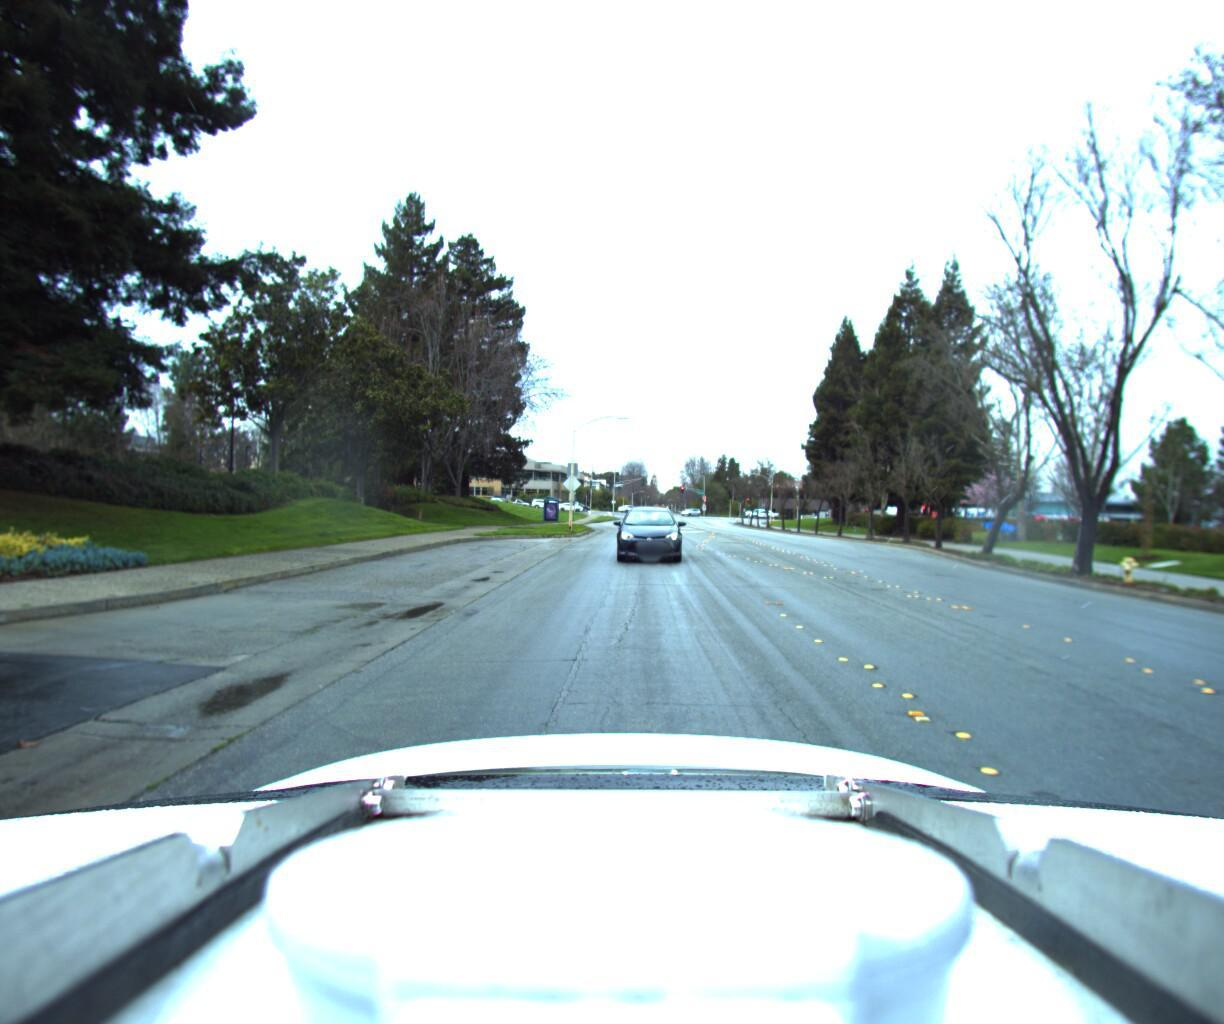car: (608, 499, 686, 566)
